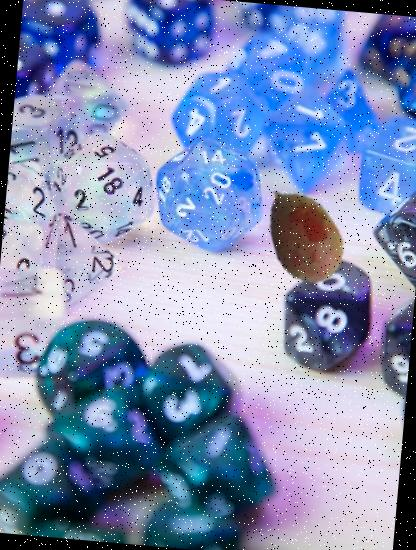Potato: (250, 178, 362, 291)
